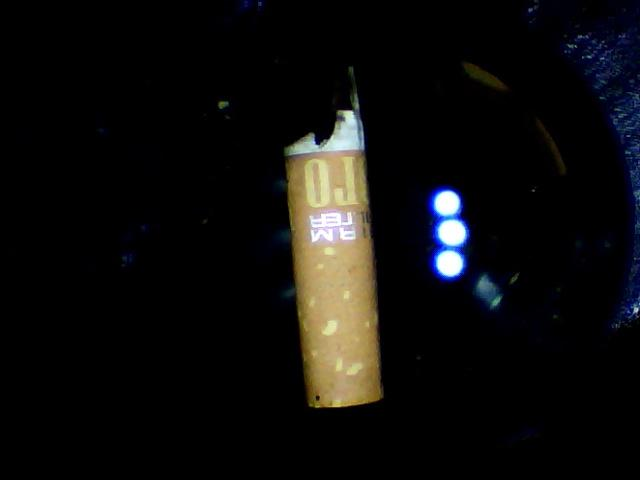megot: (275, 62, 397, 415)
